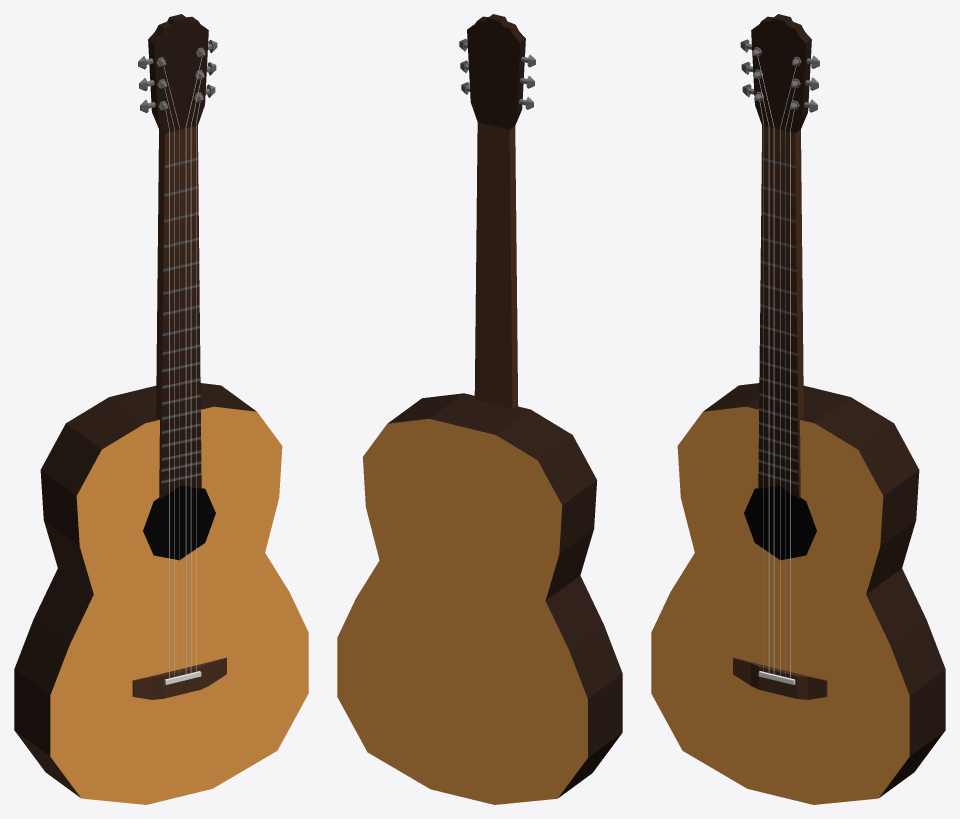
Rendered from Acoustic_Guitar.fbx.
The picture shows the model from 3 angles, left to right: view 1: azimuth 30°, elevation 25°; view 2: azimuth 150°, elevation 25°; view 3: azimuth 330°, elevation 25°; orthographic projection. The views are drawn at different scales.
Parts seen in each view (by area): view 1: Acoustic_Guitar; view 2: Acoustic_Guitar; view 3: Acoustic_Guitar.
Part boxes in pixels (bbox=[...]): Acoustic_Guitar: bbox=[14, 14, 308, 804]; Acoustic_Guitar: bbox=[337, 14, 622, 804]; Acoustic_Guitar: bbox=[651, 14, 945, 804].
Size of the model in its own units: 0.4175 by 1.2 by 0.1184.
1 material, 1 textured.
